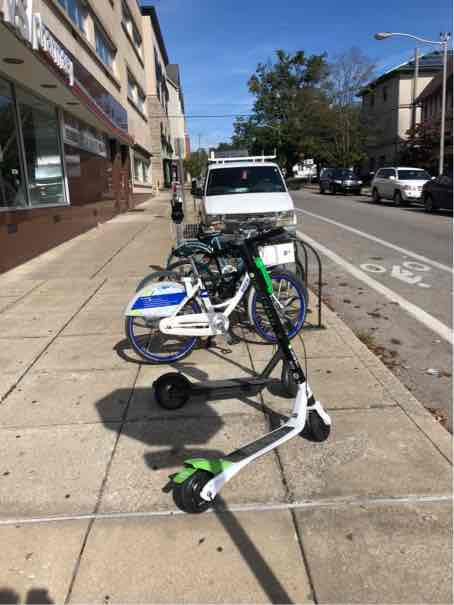scooter: (163, 216, 344, 517)
